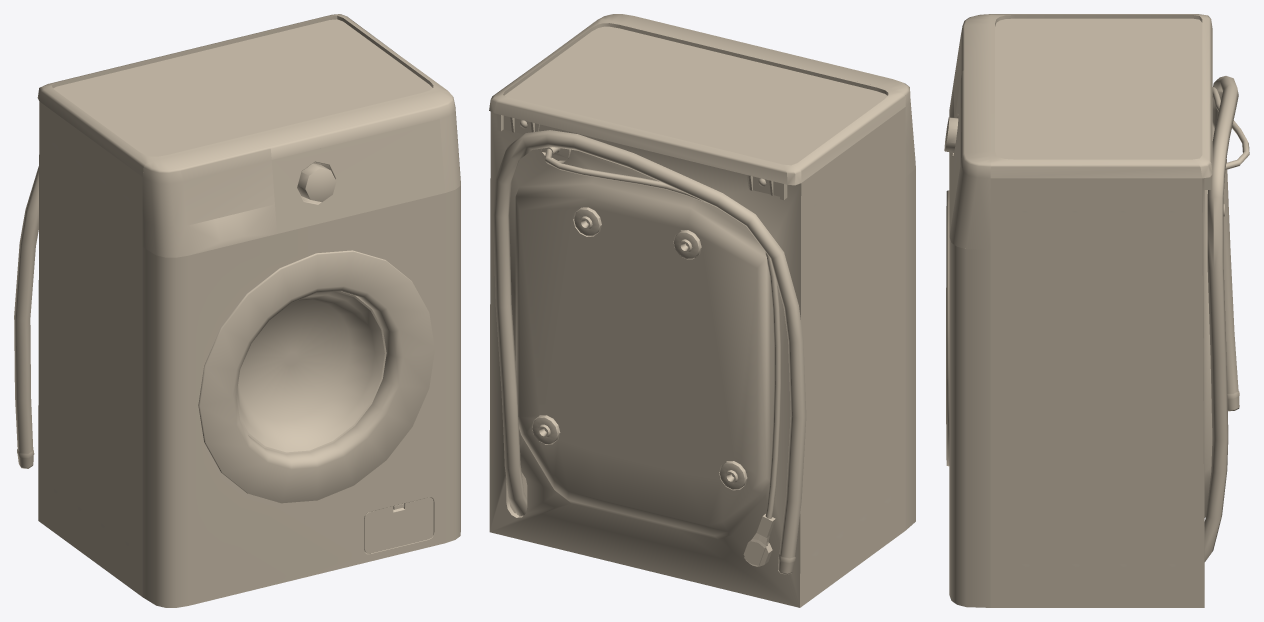
The model's file is washing_machine_15_L.fbx.
3 renders of one model, left to right at view 1: azimuth 30°, elevation 25°; view 2: azimuth 150°, elevation 25°; view 3: azimuth 270°, elevation 25°, orthographic. The views are drawn at different scales.
Parts seen in each view (by area): view 1: washing_machine_15_L; view 2: washing_machine_15_L; view 3: washing_machine_15_L.
Boxes of the visible parts, bbox=[...] form: washing_machine_15_L: bbox=[14, 14, 460, 607]; washing_machine_15_L: bbox=[489, 14, 915, 607]; washing_machine_15_L: bbox=[944, 14, 1249, 607].
Bounding box in the file's own units: 16.24 × 20.96 × 13.06.
